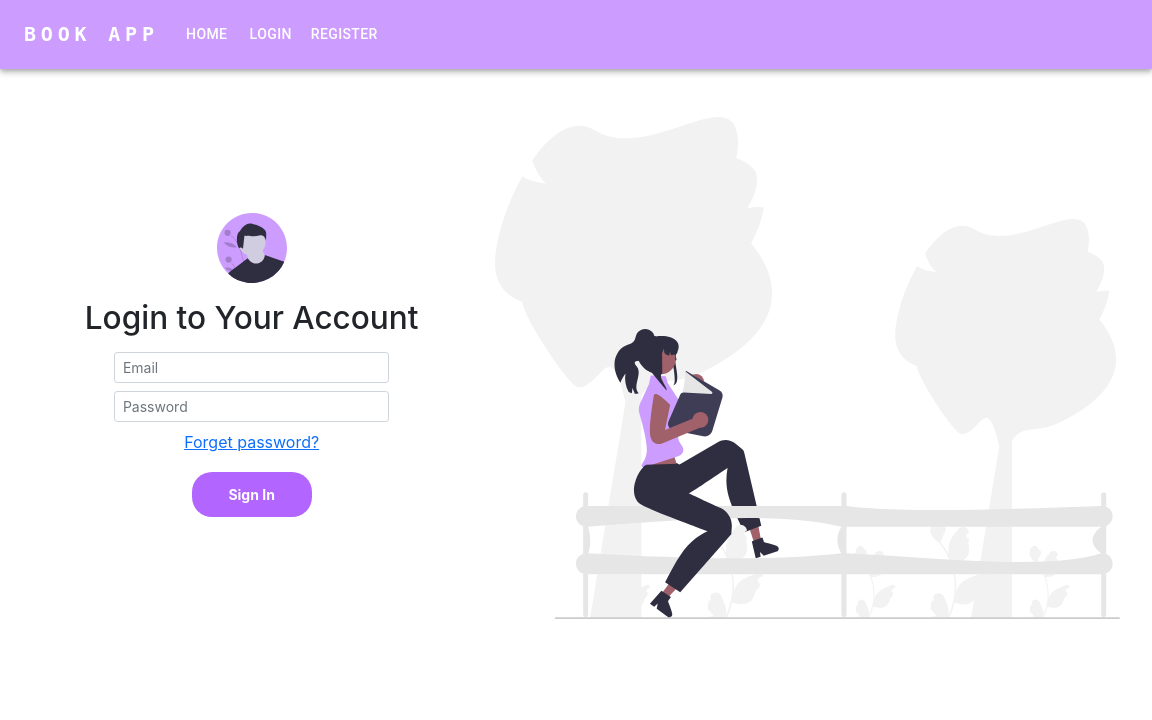
BOOK APP E2E Test Cases › Should check for wrong Password credentials
This screenshot has width=1152, height=720.
In the field with id "email": (252, 368) left=114, top=352, right=390, bottom=383, type "gulaganjipavan25@gmail.com"
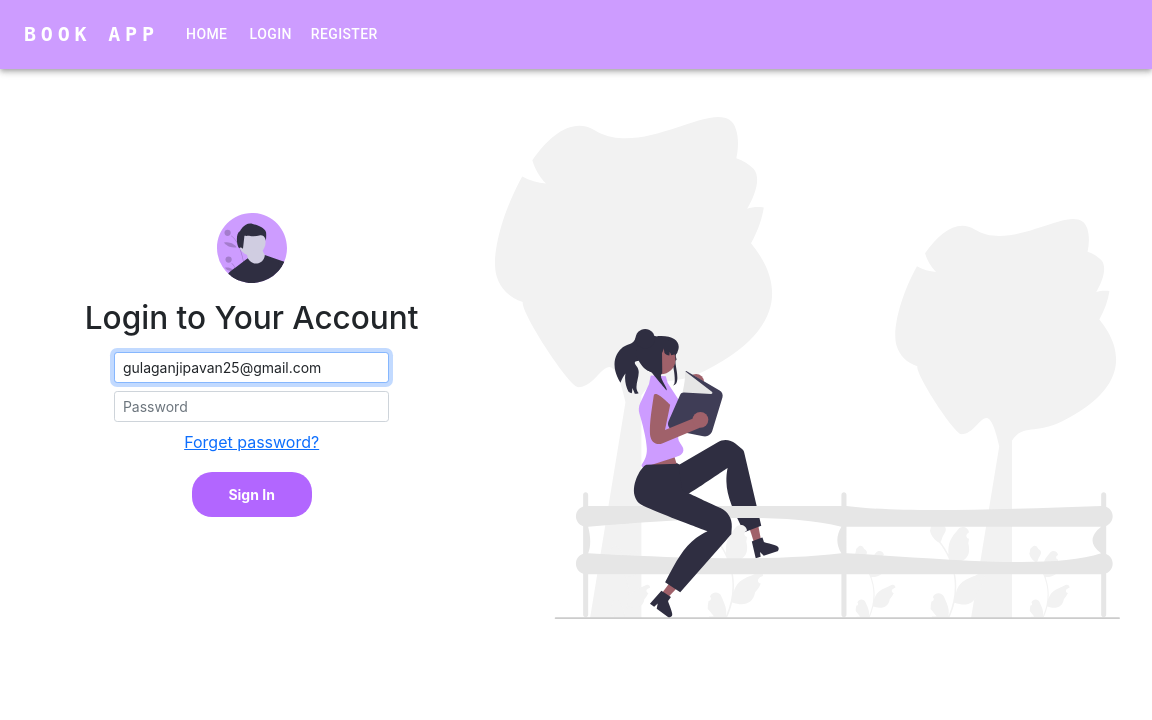
In the password field with placeholder "Password": (252, 407) left=114, top=391, right=390, bottom=422, type "1234"
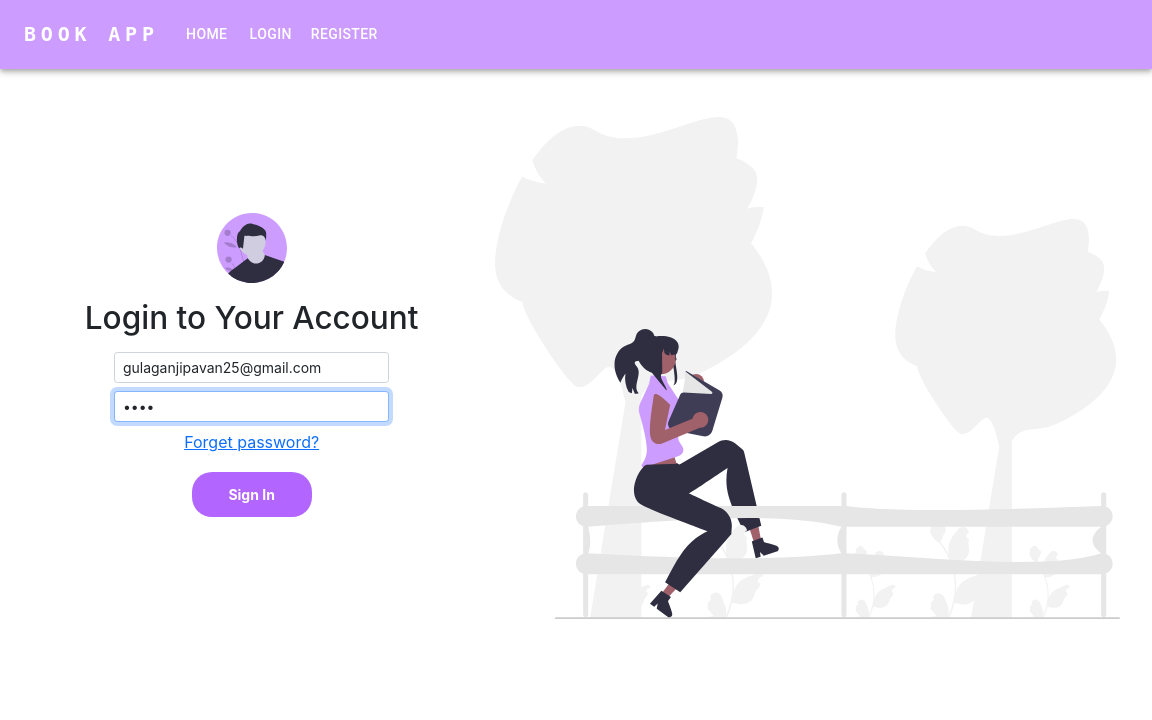
Click the button with id "btnLogin": (252, 495) left=192, top=472, right=312, bottom=517
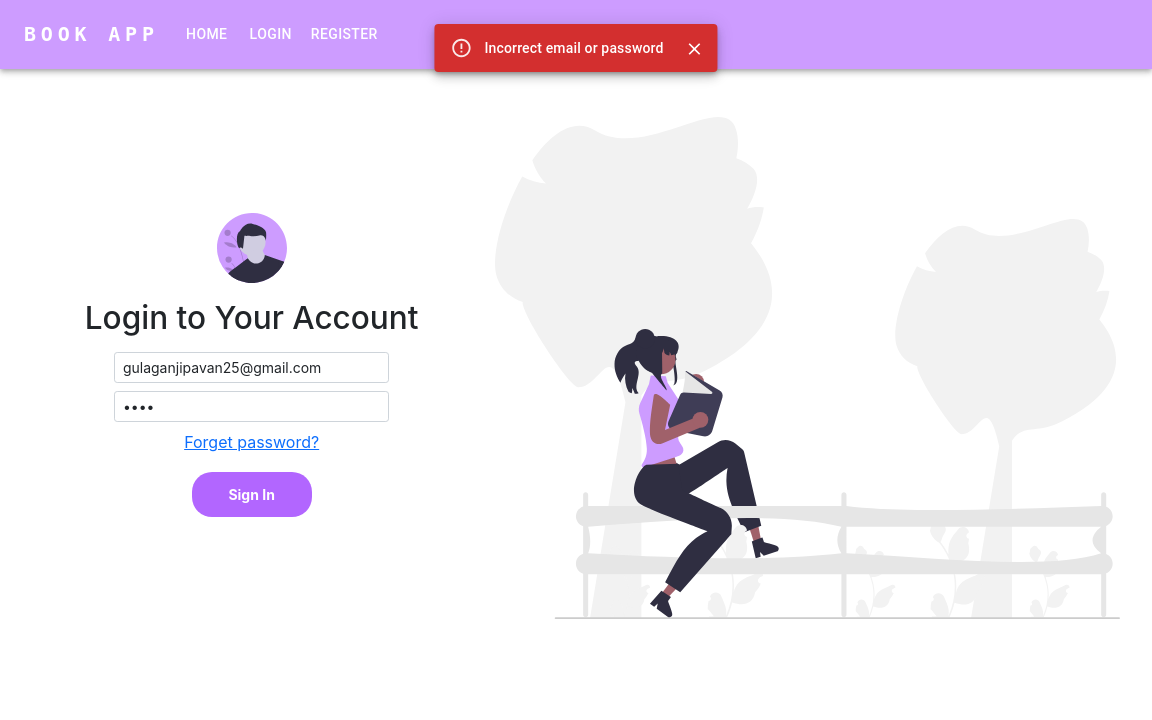
Check: the element with id "error" reads "Incorrect email or password", box left=434, top=24, right=717, bottom=72
